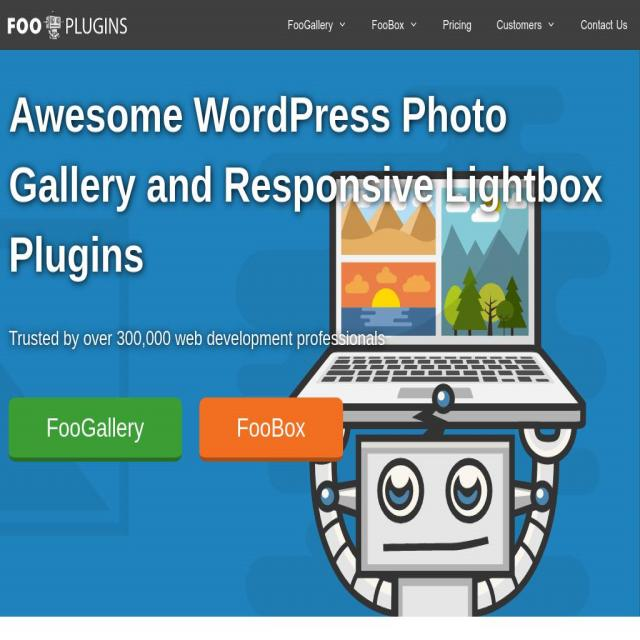navigation-links: (282, 10, 638, 43)
